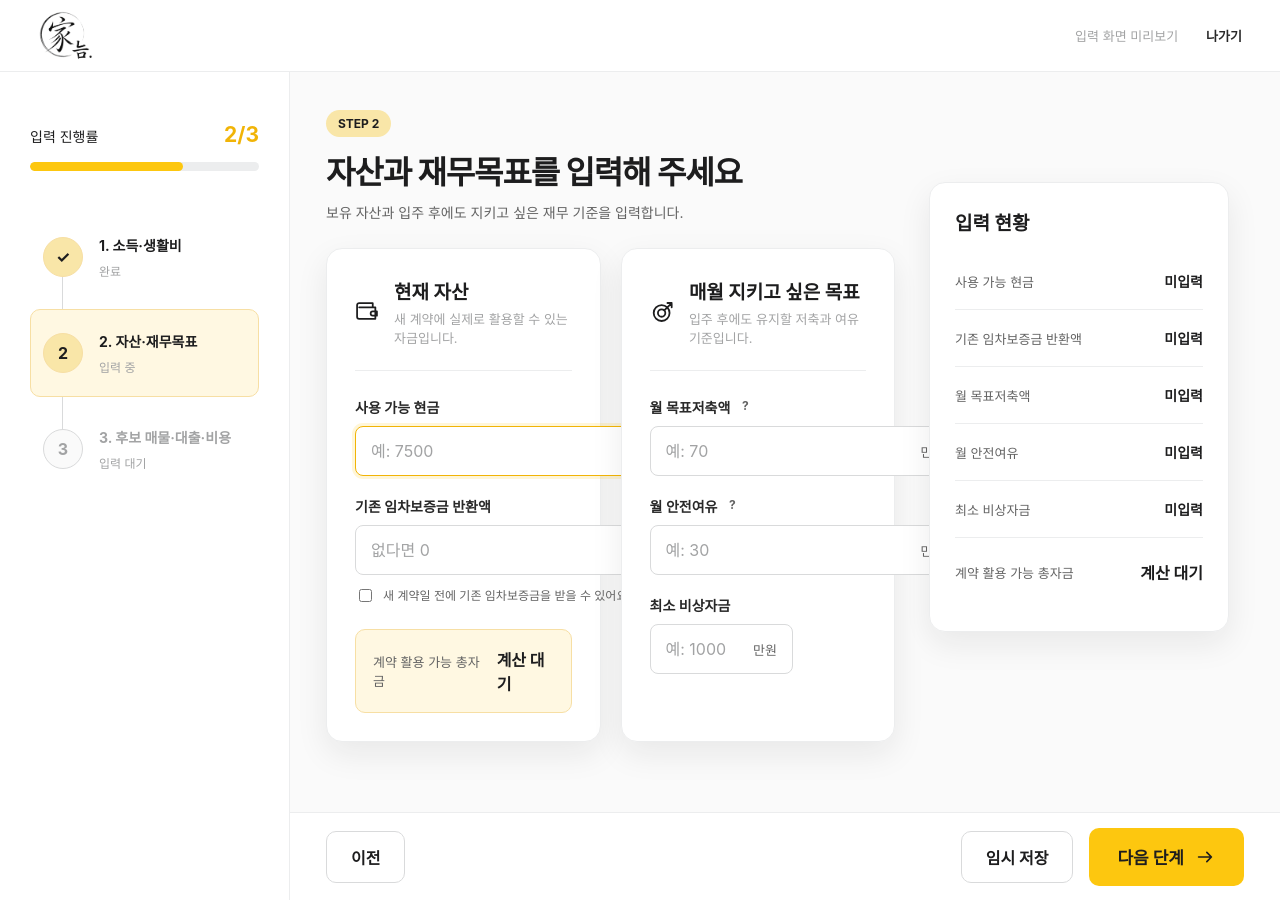
Test: App › 자산·재무목표 독립 경로를 표시하고 이전 버튼으로 1단계에 이동한다
The image size is (1280, 900).
Expected: the heading "자산과 재무목표를 입력해 주세요" is shown, [326, 153, 742, 192]
Click the button "이전" at x=366, y=856, box [326, 830, 406, 882]
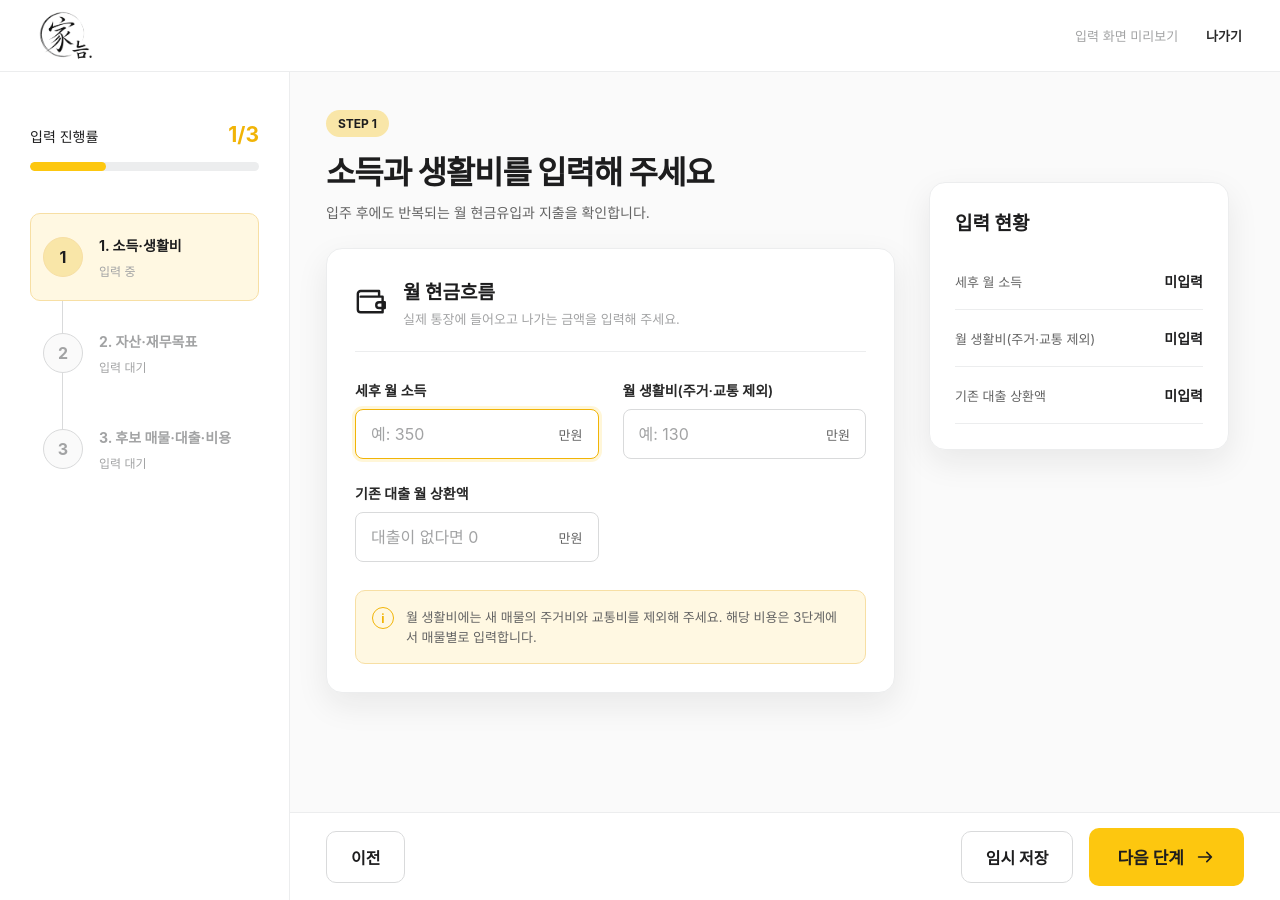
Now the heading "소득과 생활비를 입력해 주세요" is shown, box [326, 153, 714, 192]
